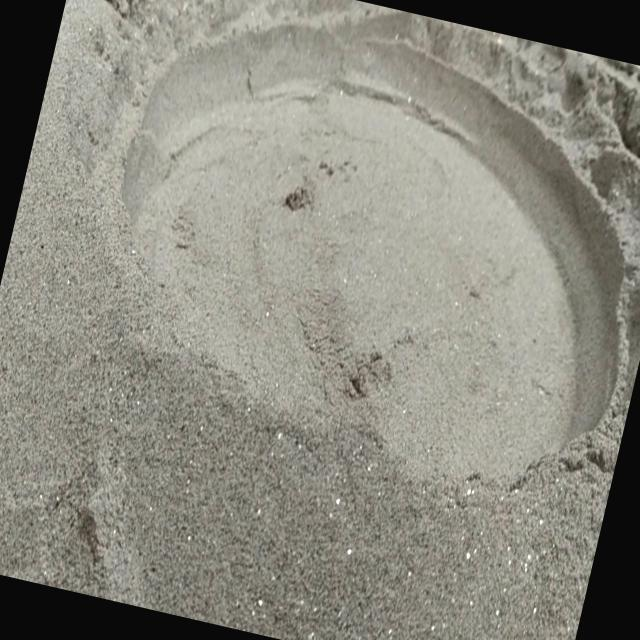C40: (123, 0, 640, 472)
